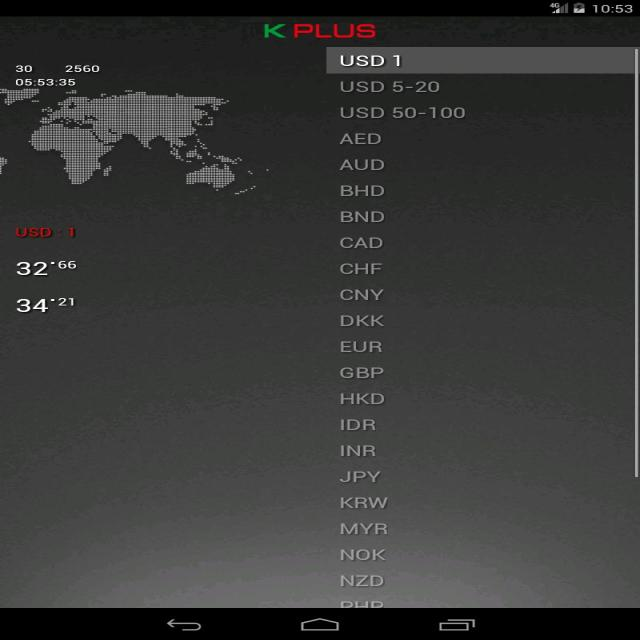heading: (256, 20, 380, 42)
image: (3, 16, 640, 608)
text: (336, 46, 440, 608), (7, 222, 78, 315)
